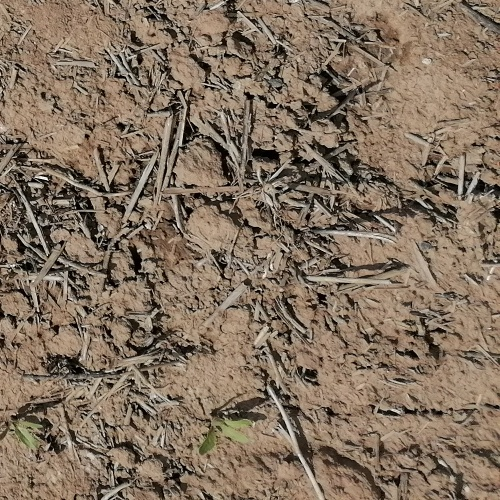beet: (196, 417, 251, 456), (0, 419, 45, 456)
